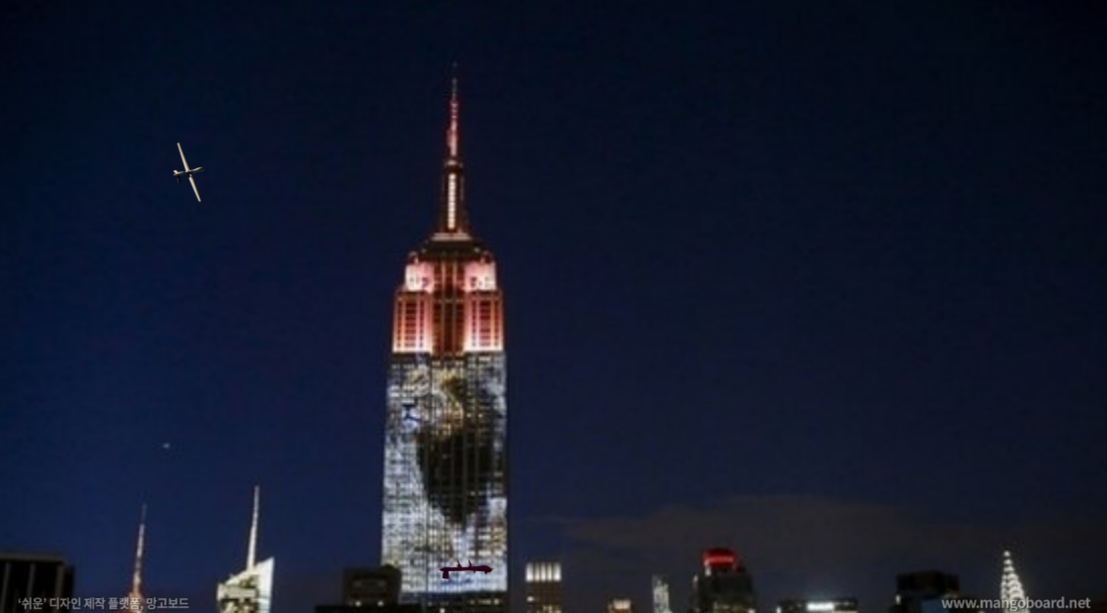military drone: (173, 142, 202, 202)
